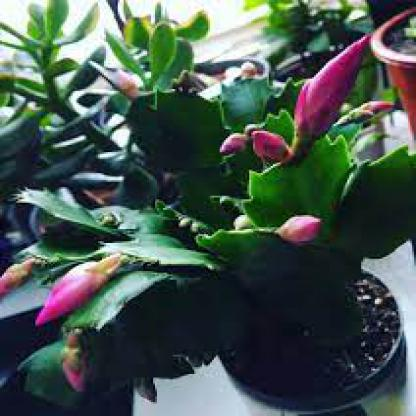Aglonema: (130, 119, 416, 372)
